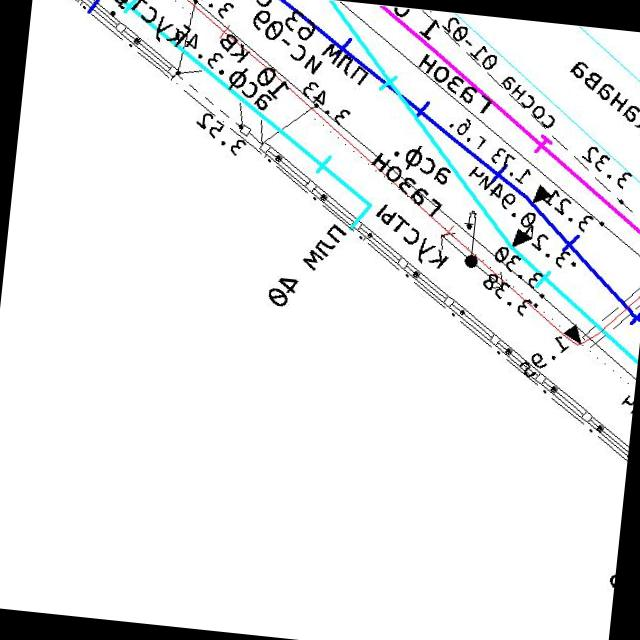asphalt: (213, 64, 275, 112), (390, 142, 454, 187)
mark: (509, 227, 533, 251), (561, 322, 584, 346), (531, 184, 552, 207)
